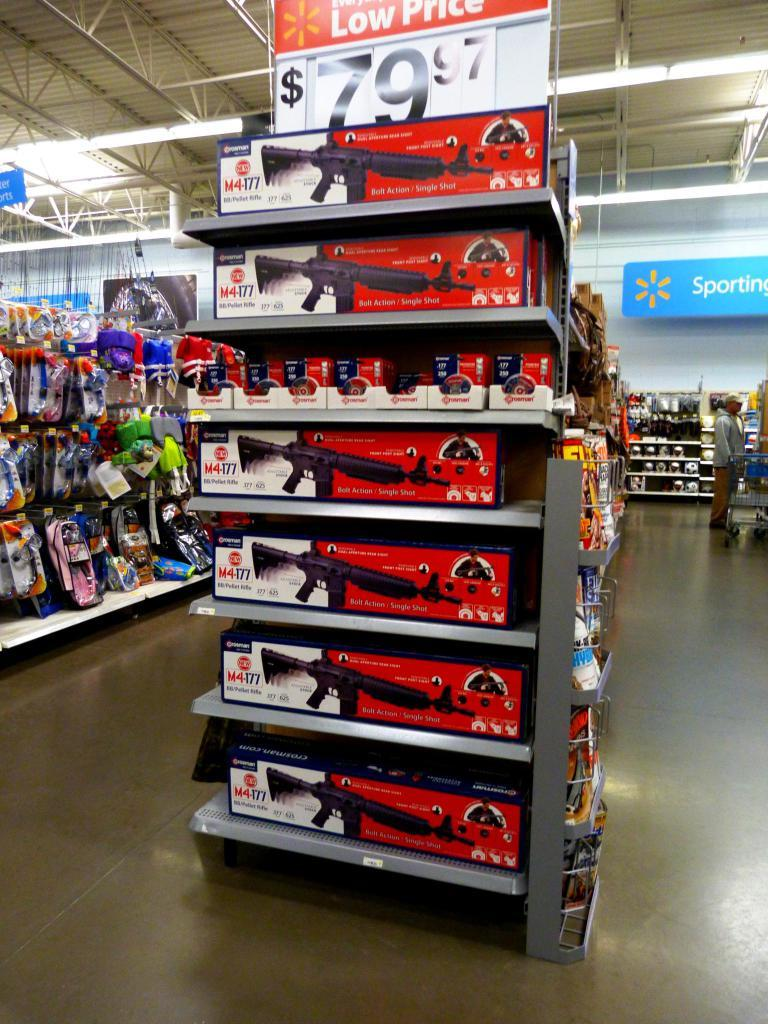Rifle: (255, 125, 499, 204), (252, 234, 479, 316), (257, 765, 481, 844), (231, 430, 458, 505), (255, 643, 479, 717), (248, 543, 454, 607)
